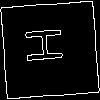H: (24, 25, 73, 64)
